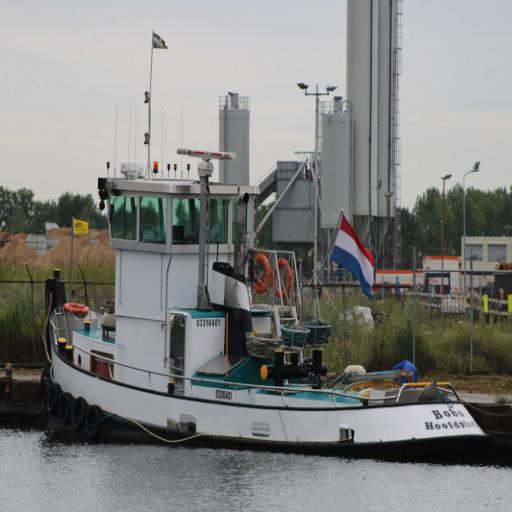tugboat: (38, 144, 497, 473)
